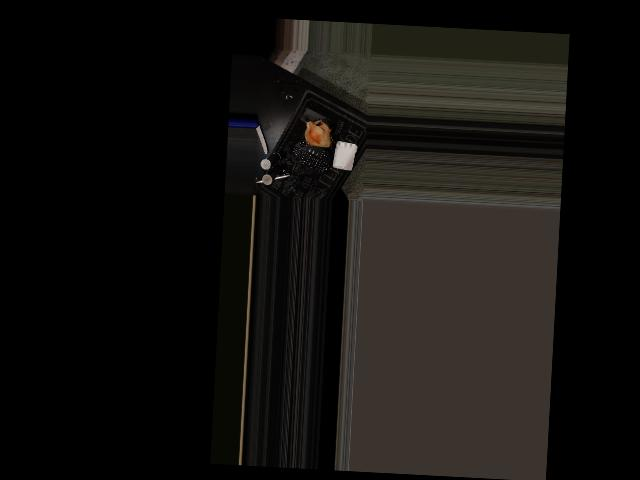onion: (302, 119, 333, 150)
